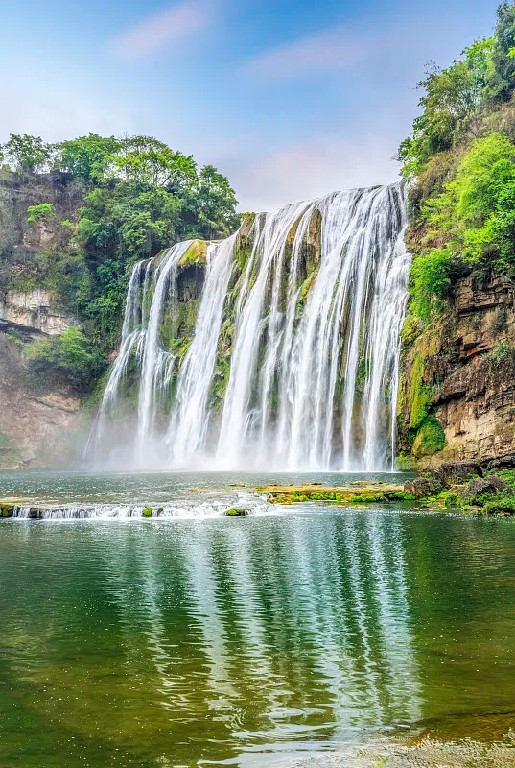Huangguoshu: (92, 184, 411, 473)
